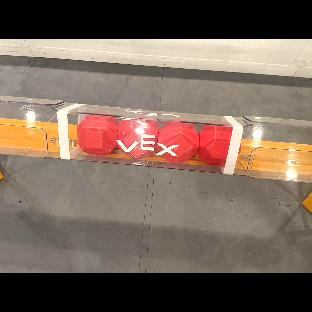redingoal: (76, 111, 119, 159), (199, 121, 246, 161), (158, 119, 198, 163), (119, 115, 158, 158)
